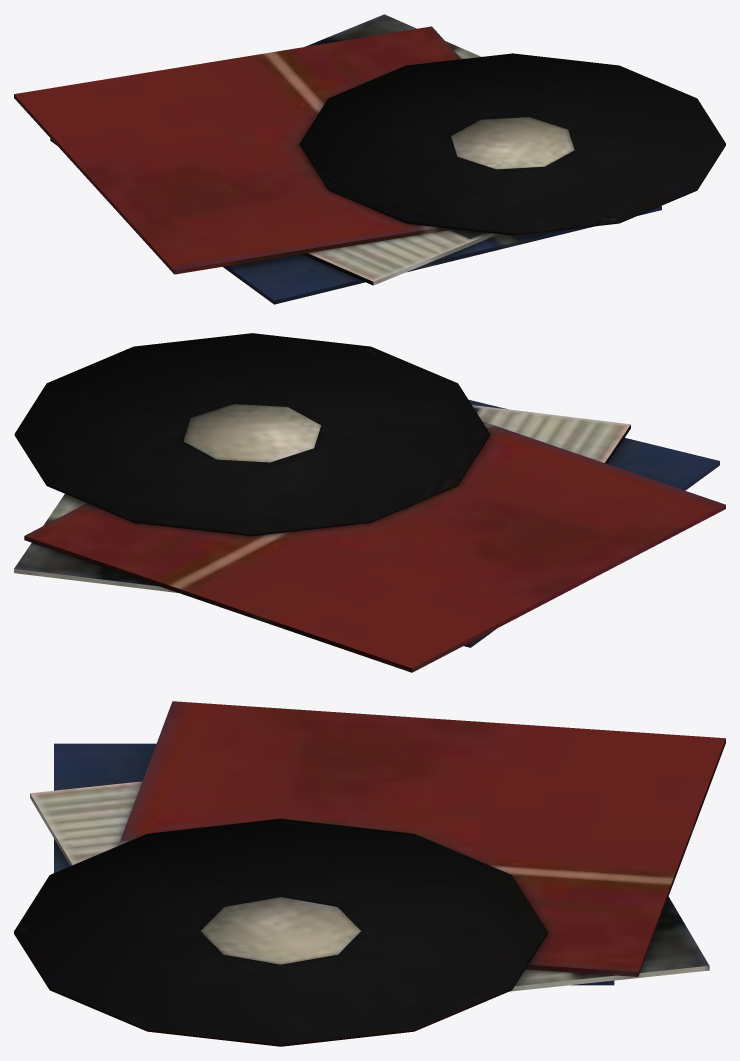
Rendered from vinyl_records_lod1_web.glb.
3 renders of one model, top to bottom at view 1: azimuth 30°, elevation 25°; view 2: azimuth 150°, elevation 25°; view 3: azimuth 270°, elevation 25°, orthographic. The views are drawn at different scales.
Visible parts, largest first — view 1: VinylRecords_Body; view 2: VinylRecords_Body; view 3: VinylRecords_Body.
Part boxes in pixels (left/top/right/bottom): VinylRecords_Body: left=14, top=14, right=725, bottom=304; VinylRecords_Body: left=14, top=333, right=725, bottom=672; VinylRecords_Body: left=14, top=701, right=725, bottom=1046.
Size of the model in its own units: 0.4602 by 0.0116 by 0.4002.
1 material, 1 textured.
